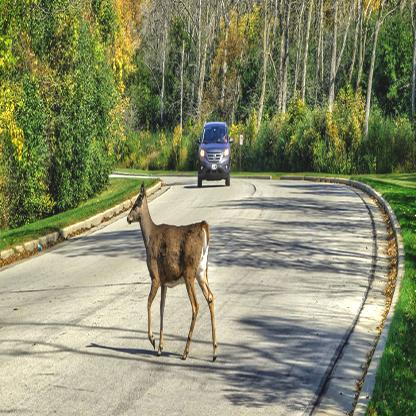Deer: (126, 180, 218, 364)
